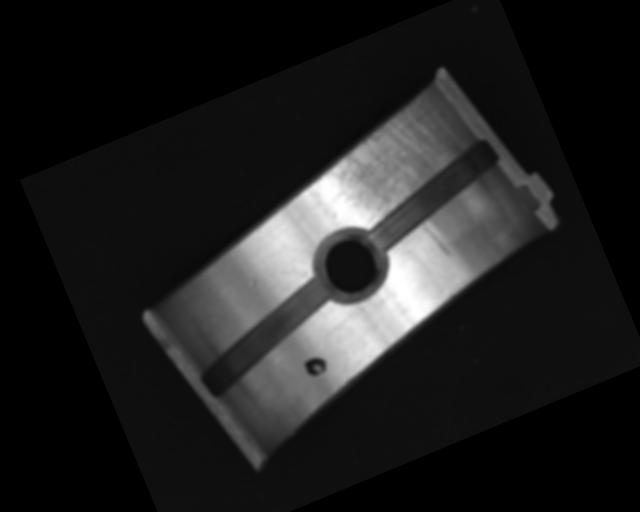blot: (301, 352, 330, 380)
bruise: (247, 276, 259, 289)
gap: (181, 272, 351, 400), (350, 136, 514, 255)
hole: (304, 219, 396, 312)
nick: (420, 215, 452, 263), (284, 235, 316, 265)
scratch: (303, 80, 481, 235)
